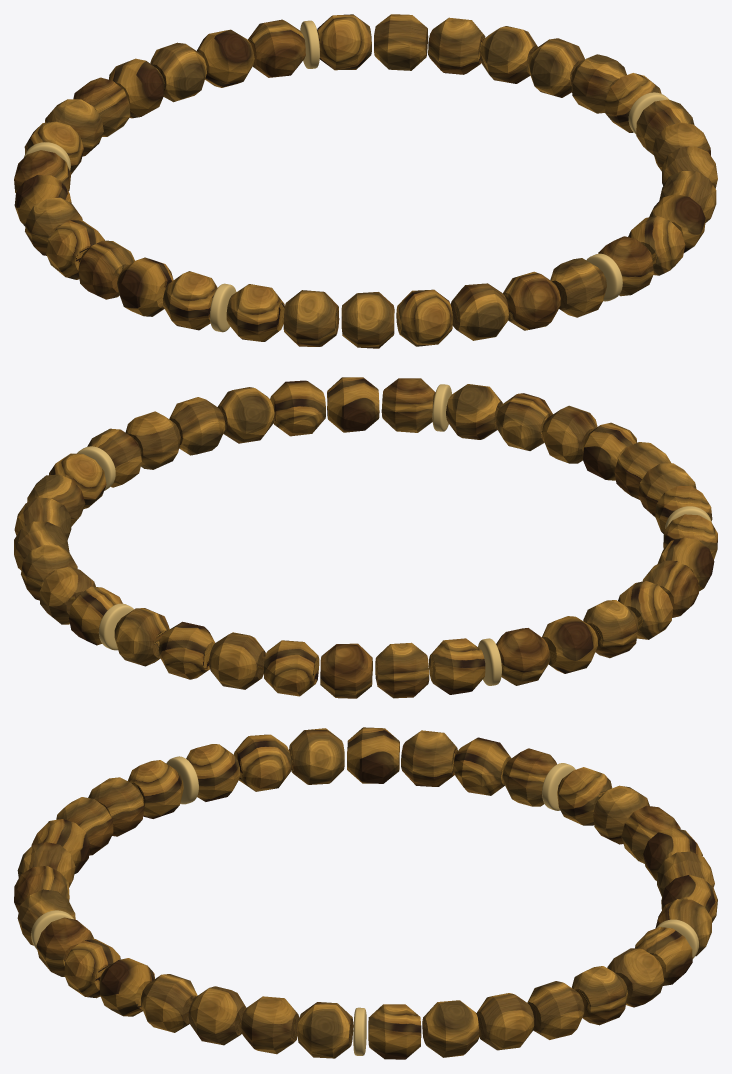
Rendered from standard.glb.
3 renders of one model, top to bottom at view 1: azimuth 30°, elevation 25°; view 2: azimuth 150°, elevation 25°; view 3: azimuth 270°, elevation 25°, orthographic. The views are drawn at different scales.
Visible parts, largest first — view 1: facet_kulka_1.004, facet_kulka_0.005, facet_kulka_4.004, facet_kulka_2.004, facet_kulka_0.001, facet_kulka_2.001, facet_kulka_3.004, facet_kulka_4, facet_kulka_1.005, facet_kulka_1.001, facet_kulka_3, facet_kulka_3.001 (+27 smaller); view 2: facet_kulka_3.002, facet_kulka_4.001, facet_kulka_0.002, facet_kulka_2.002, facet_kulka_1.002, facet_kulka_0.006, facet_kulka_4.005, facet_kulka_3.001, facet_kulka_2.005, facet_kulka_3.005, facet_kulka_1.006, facet_kulka_0.003 (+27 smaller); view 3: facet_kulka_1, facet_kulka_3.006, facet_kulka_2, facet_kulka_4.006, facet_kulka_2.006, facet_kulka_3.003, facet_kulka_1.003, facet_kulka_2.003, facet_kulka_4.003, facet_kulka_0, facet_kulka_3, facet_kulka_0.003 (+28 smaller).
Boxes of the visible parts, left/top/right/bottom form: facet_kulka_1.004: left=226, top=284, right=284, bottom=341; facet_kulka_0.005: left=450, top=283, right=508, bottom=340; facet_kulka_4.004: left=396, top=289, right=452, bottom=346; facet_kulka_2.004: left=283, top=290, right=339, bottom=346; facet_kulka_0.001: left=374, top=14, right=428, bottom=70; facet_kulka_2.001: left=248, top=19, right=305, bottom=77; facet_kulka_3.004: left=341, top=292, right=394, bottom=348; facet_kulka_4: left=428, top=17, right=485, bottom=74; facet_kulka_1.005: left=503, top=271, right=560, bottom=330; facet_kulka_1.001: left=317, top=14, right=371, bottom=70; facet_kulka_3: left=480, top=26, right=537, bottom=83; facet_kulka_3.001: left=197, top=29, right=254, bottom=87; facet_kulka_3.002: left=428, top=638, right=485, bottom=694; facet_kulka_4.001: left=209, top=632, right=265, bottom=689; facet_kulka_0.002: left=263, top=640, right=319, bottom=696; facet_kulka_2.002: left=375, top=642, right=429, bottom=698; facet_kulka_1.002: left=320, top=643, right=372, bottom=698; facet_kulka_0.006: left=270, top=380, right=325, bottom=436; facet_kulka_4.005: left=327, top=377, right=379, bottom=432; facet_kulka_3.001: left=158, top=621, right=215, bottom=679; facet_kulka_2.005: left=446, top=384, right=502, bottom=439; facet_kulka_3.005: left=381, top=378, right=435, bottom=432; facet_kulka_1.006: left=217, top=387, right=274, bottom=443; facet_kulka_0.003: left=542, top=616, right=597, bottom=673; facet_kulka_1: left=422, top=1000, right=479, bottom=1057; facet_kulka_3.006: left=241, top=996, right=299, bottom=1054; facet_kulka_2: left=476, top=993, right=534, bottom=1050; facet_kulka_4.006: left=298, top=1002, right=353, bottom=1058; facet_kulka_2.006: left=188, top=986, right=246, bottom=1045; facet_kulka_3.003: left=289, top=728, right=344, bottom=784; facet_kulka_1.003: left=401, top=730, right=457, bottom=786; facet_kulka_2.003: left=347, top=727, right=399, bottom=783; facet_kulka_4.003: left=234, top=734, right=291, bottom=791; facet_kulka_0: left=368, top=1004, right=421, bottom=1059; facet_kulka_3: left=527, top=981, right=584, bottom=1039; facet_kulka_0.003: left=453, top=737, right=511, bottom=795.
Bounding box in the file's own units: 5.89 × 0.4718 × 5.85.
Materials: 4 (3 with a texture image).
